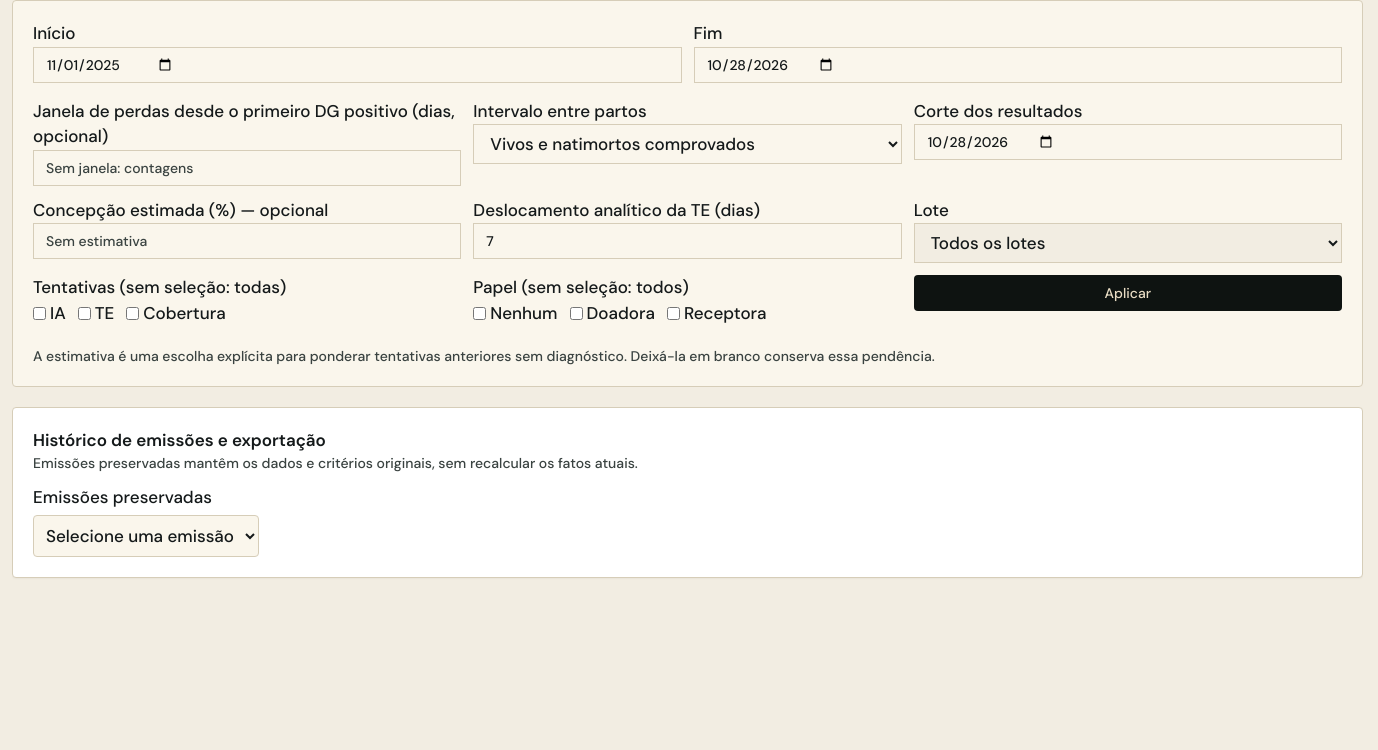
indicadores preservados — compatibilidade independente V1/V2 › abrir emissão V1 conserva snapshot sem recalcular ou inventar bloco novo
The width and height of the screenshot is (1378, 750).
Select "22/01/2026, 12:00:00" in the dropdown labelled "Emissões preservadas": (146, 536) [33,514,259,556]
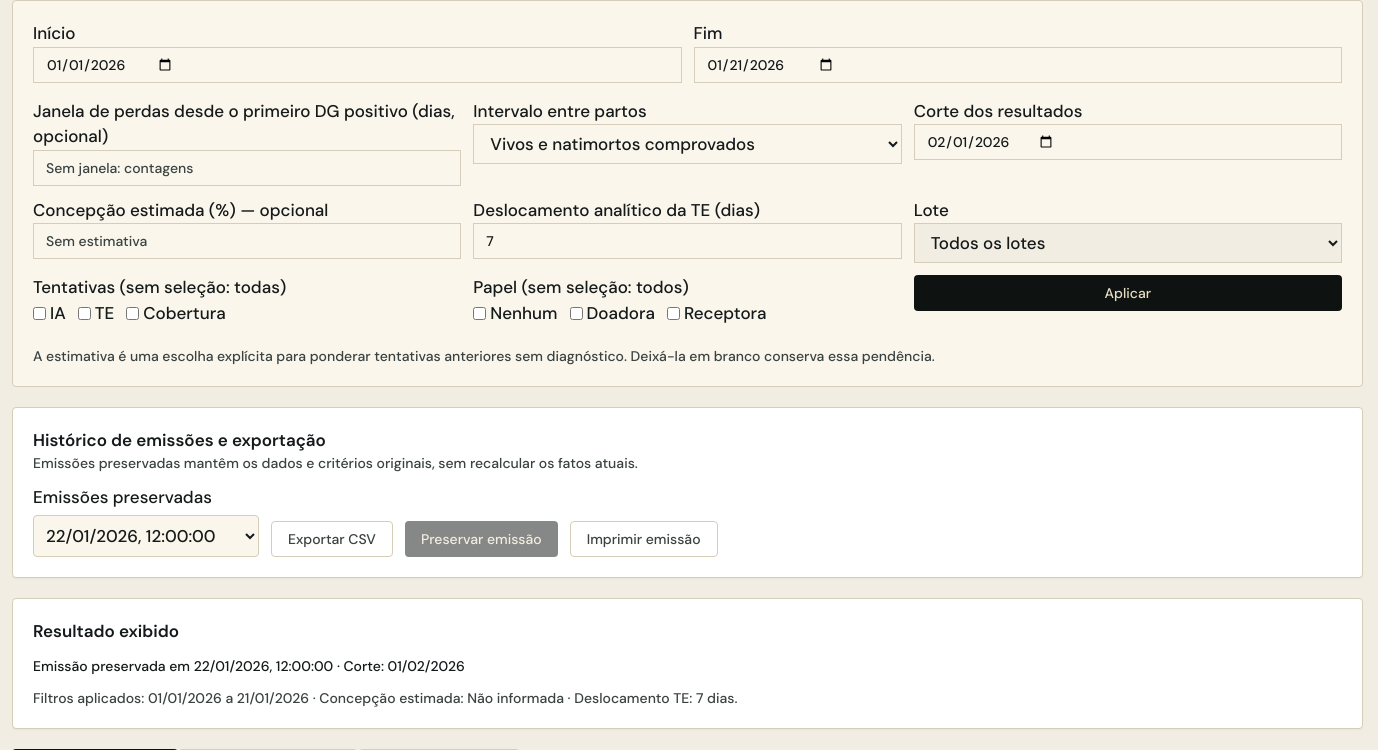
Result: the text "Emissão preservada em" is shown at [33,657,333,675]
